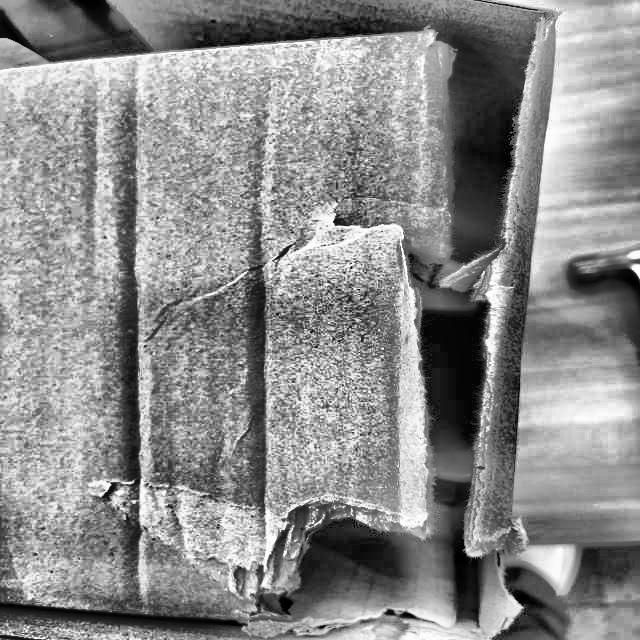box: (0, 0, 540, 634)
hole: (271, 383, 505, 627)
